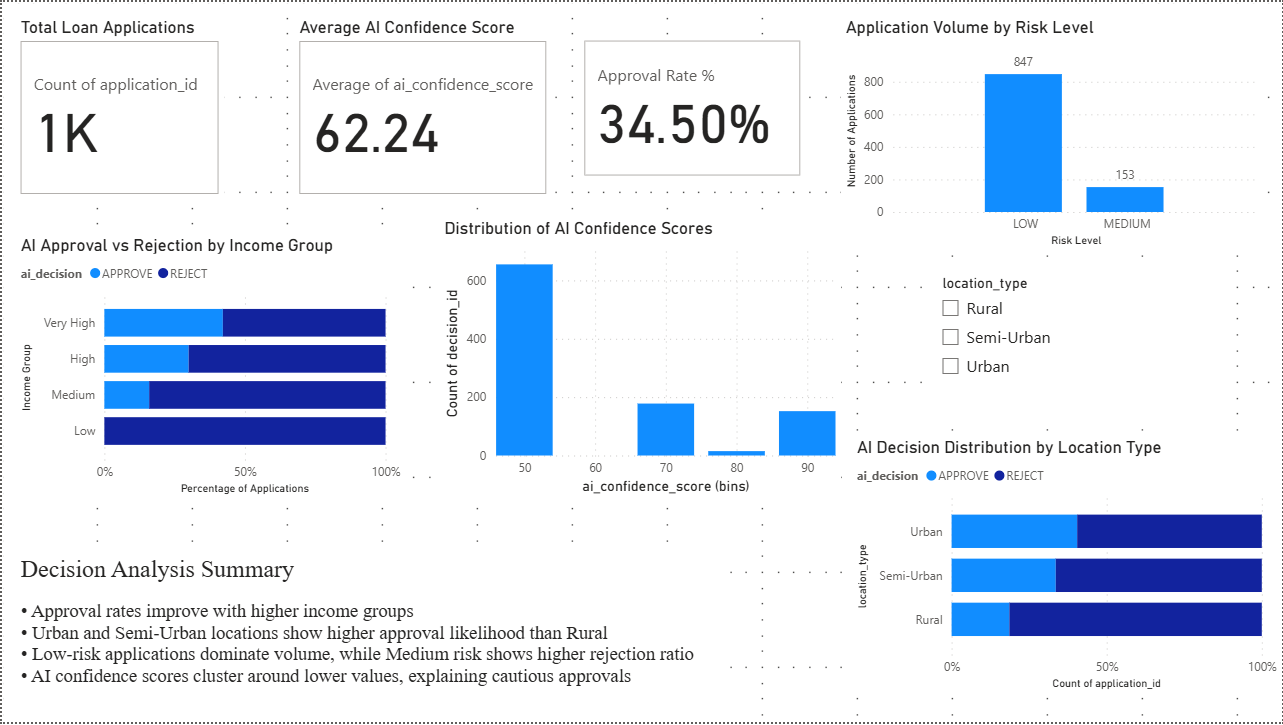

Layout of this report page (visuals, bound fields, positions):
{"tool":"powerbi","page":{"name":"Decision Analysis","canvas":[1280,720],"ordinal":1},"visuals":[{"type":"clusteredColumnChart","title":"Application Volume by Risk Level","fields":{"Category":["risk_evaluation.overall_risk_level"],"Y":["CountNonNull(risk_evaluation.application_id)"]},"box":[838.8,15,423.8,235],"z":0},{"type":"hundredPercentStackedBarChart","title":"AI Approval vs Rejection by Income Group","fields":{"Series":["ai_decisions.ai_decision"],"Category":["loan_applications.income_group"],"Y":["CountNonNull(loan_applications.application_id)"]},"box":[13.8,232.5,390,265],"z":1000},{"type":"hundredPercentStackedBarChart","title":"AI Decision Distribution by Location Type","fields":{"Category":["loan_applications.location_type"],"Series":["ai_decisions.ai_decision"],"Y":["CountNonNull(loan_applications.application_id)"]},"box":[850,435,430,257.5],"z":2000},{"type":"cardVisual","title":"Total Loan Applications","fields":{"Data":["CountNonNull(loan_applications.application_id)"]},"box":[13.8,15,208.8,182.5],"z":3000},{"type":"clusteredColumnChart","title":"Distribution of AI Confidence Scores","fields":{"Y":["CountNonNull(ai_decisions.decision_id)"],"Category":["ai_decisions.ai_confidence_score (bins)"]},"box":[437.5,216.2,401.2,281.2],"z":4000},{"type":"cardVisual","fields":{"Data":["ai_decisions.Approval Rate %"]},"box":[577.5,33.8,226.2,145],"z":4001},{"type":"cardVisual","title":"Average AI Confidence Score","fields":{"Data":["Avg(ai_decisions.ai_confidence_score)"]},"box":[292.5,15,257.5,182.5],"z":4002},{"type":"slicer","fields":{"Values":["loan_applications.location_type"]},"box":[927.5,267.5,295,150],"z":4003},{"type":"textbox","box":[13.8,548.8,702.5,171.2],"z":4004}]}

Visuals, with their boxes in screenshot pixels (x1, y1, x2, y2), scaled from the page's 1280x720 canvas onto the 1283x725 screenshot:
"Application Volume by Risk Level" clusteredColumnChart: <box>841,15,1266,252</box>
"AI Approval vs Rejection by Income Group" hundredPercentStackedBarChart: <box>14,234,405,501</box>
"AI Decision Distribution by Location Type" hundredPercentStackedBarChart: <box>852,438,1282,697</box>
"Total Loan Applications" cardVisual: <box>14,15,223,199</box>
"Distribution of AI Confidence Scores" clusteredColumnChart: <box>439,218,841,501</box>
cardVisual - ai_decisions.Approval Rate %: <box>579,34,806,180</box>
"Average AI Confidence Score" cardVisual: <box>293,15,551,199</box>
slicer - loan_applications.location_type: <box>930,269,1225,420</box>
textbox: <box>14,553,718,724</box>
